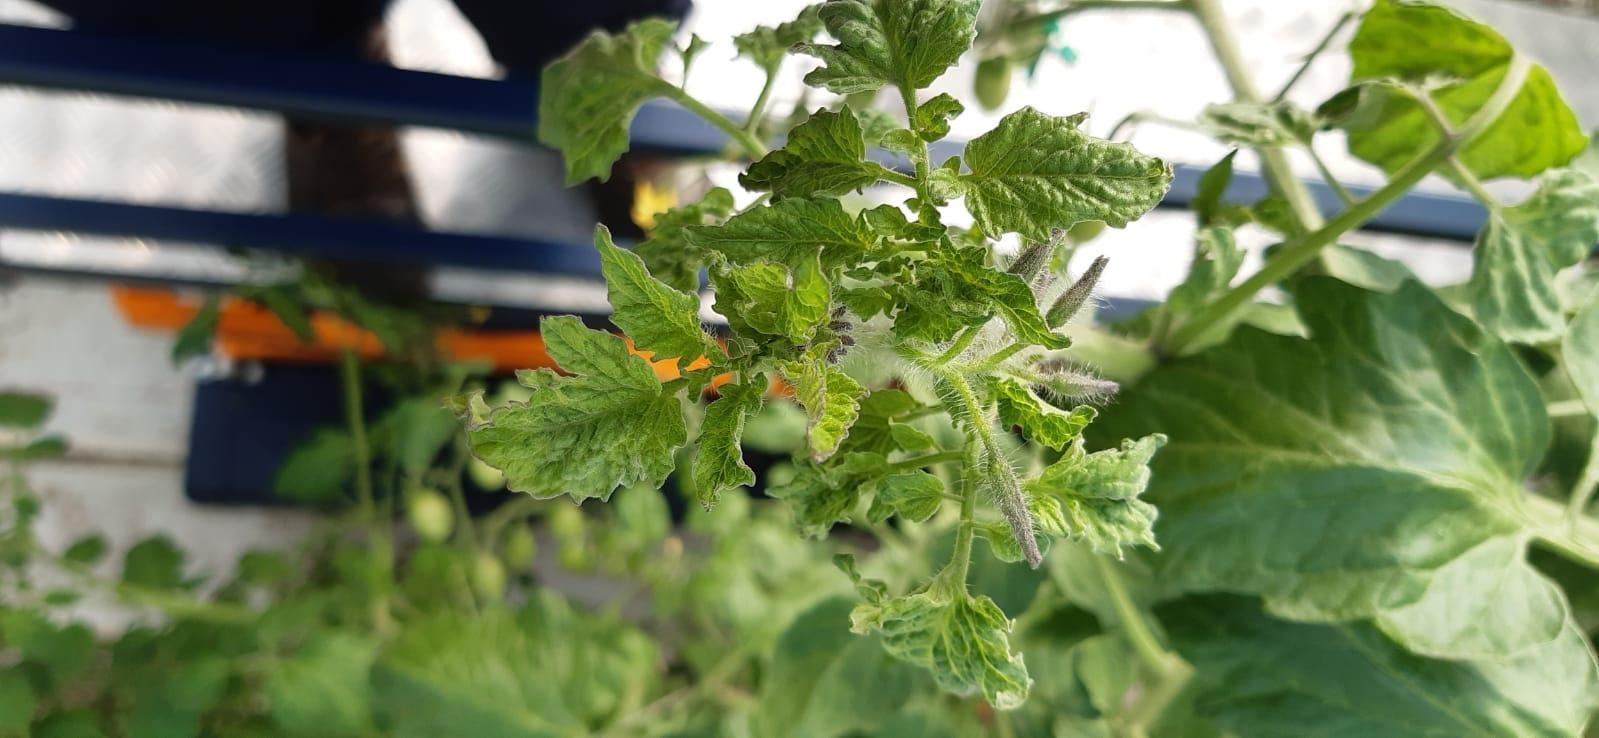Rugose leaf: (468, 314, 686, 498), (961, 104, 1171, 239), (849, 581, 1031, 708), (803, 0, 978, 125), (594, 223, 716, 368), (1024, 434, 1165, 559), (739, 102, 901, 200), (687, 197, 878, 268), (937, 247, 1059, 350), (693, 375, 768, 506), (781, 353, 865, 462), (728, 256, 831, 340)
